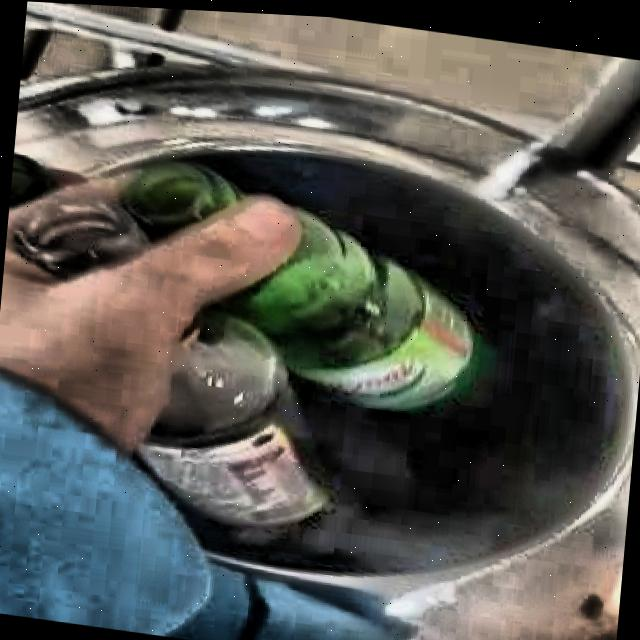glass: (138, 207, 476, 524), (16, 157, 240, 277), (9, 155, 54, 203)
